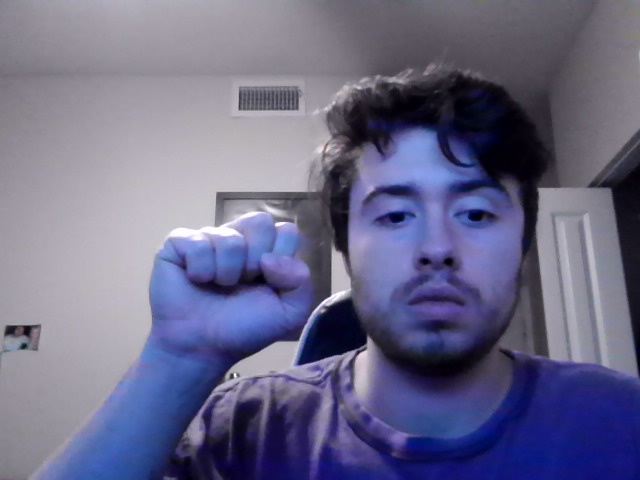s: (148, 210, 311, 384)
